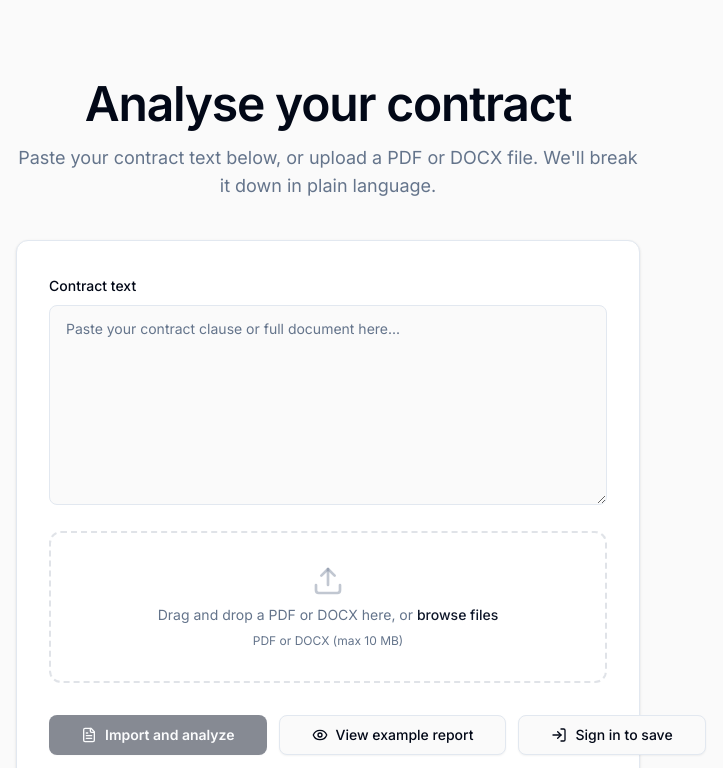
Test case: Analyze page — truncated document gating › blocks generate button when truncated and no sections selected
In the text box with placeholder "Paste your contract clause or full document here...": (328, 405) x1=49 y1=305 x2=607 y2=505, type "some contract text"
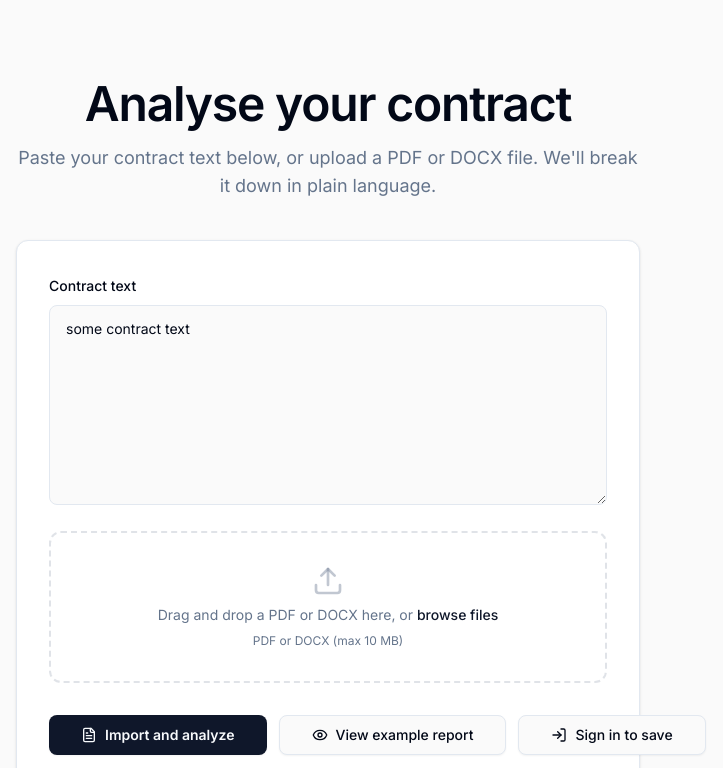
Click the button "Import and analyze": (158, 735) x1=49 y1=715 x2=266 y2=755
(page scrolled)
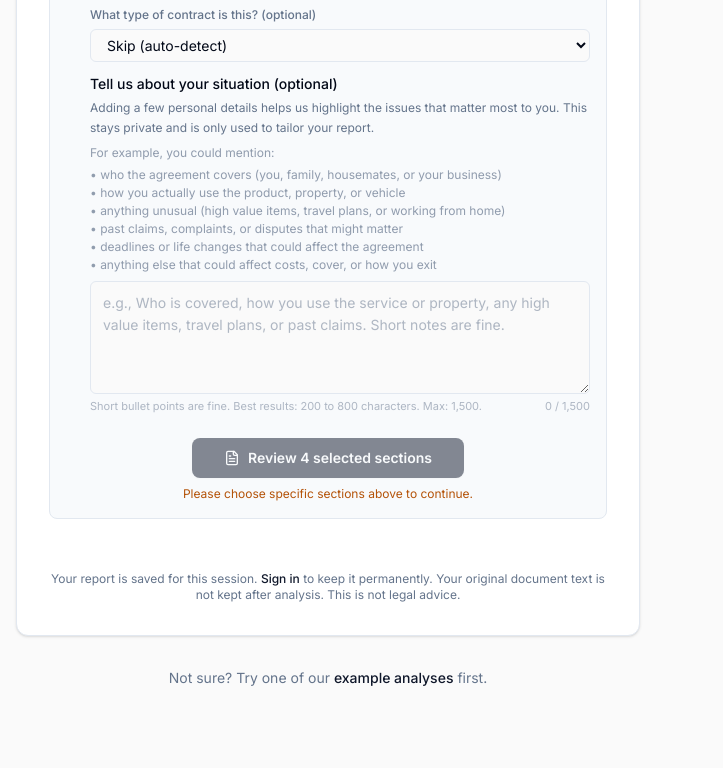
Expected: the button with test id "generate-button" is disabled, x1=192 y1=438 x2=464 y2=478
